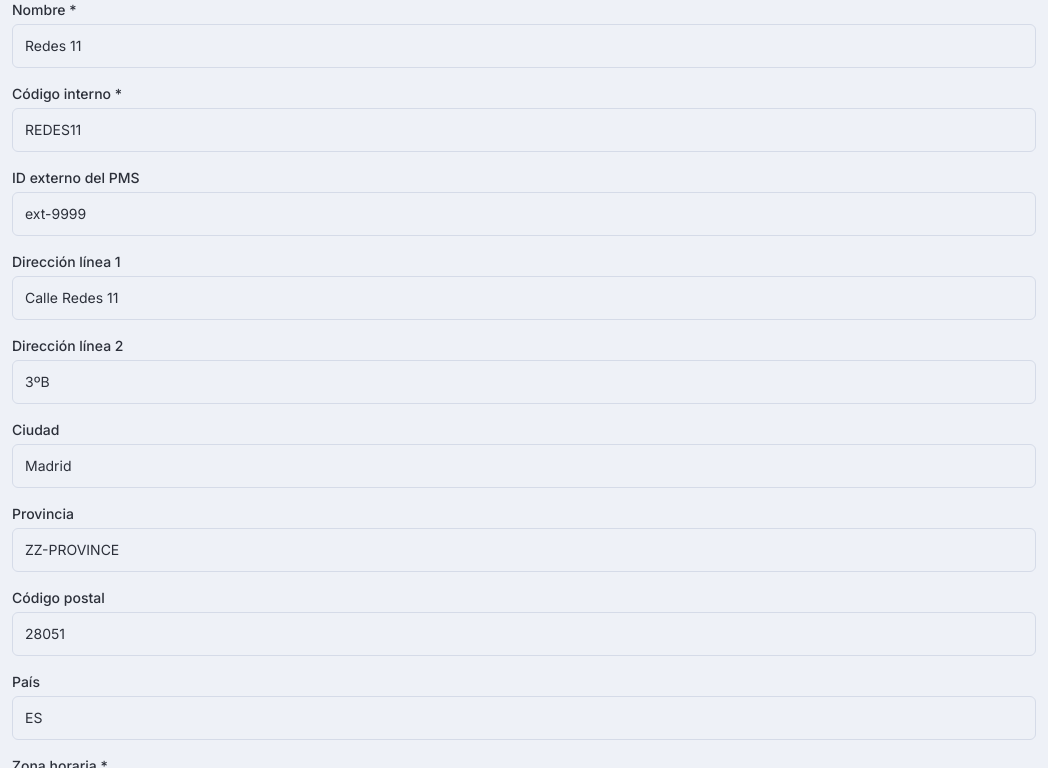
Scenario: EditPropertyForm — explicit clear vs. left alone (R2.4) › blocks the submit instead of clearing a required field (design D8)
Clear the field labelled "Nombre *" at [524, 46], box [12,24,1036,68]
(page scrolled)
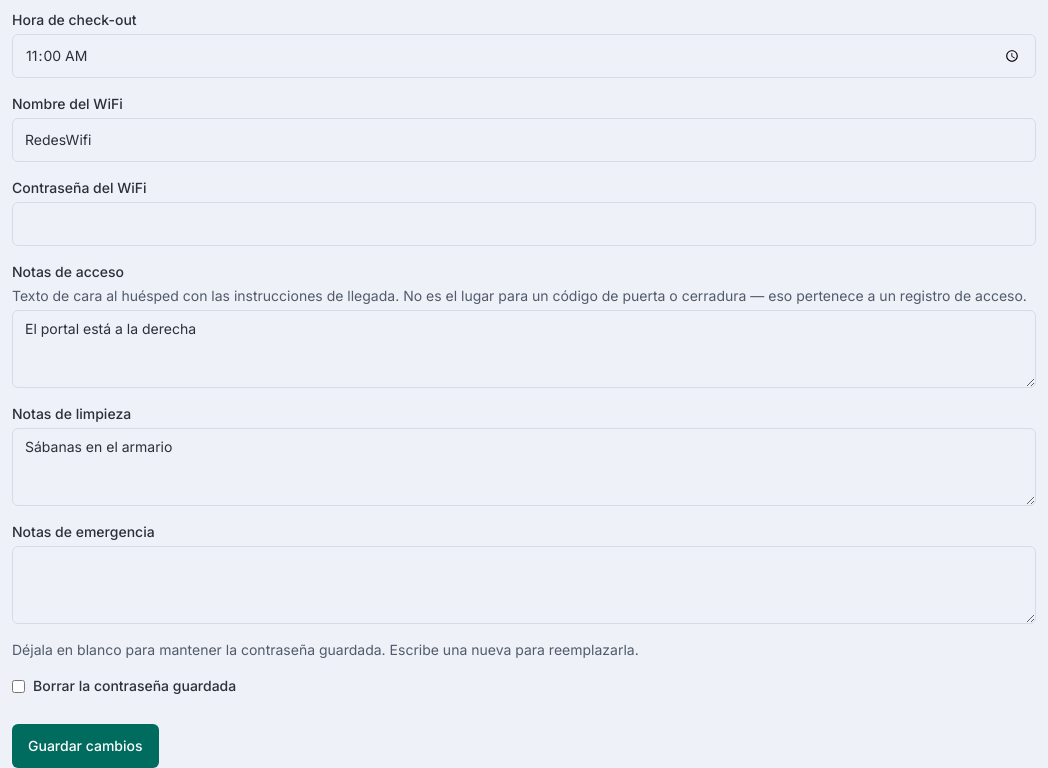
Click the button "Guardar cambios" at [85, 746], box [12,724,158,767]
(page scrolled)
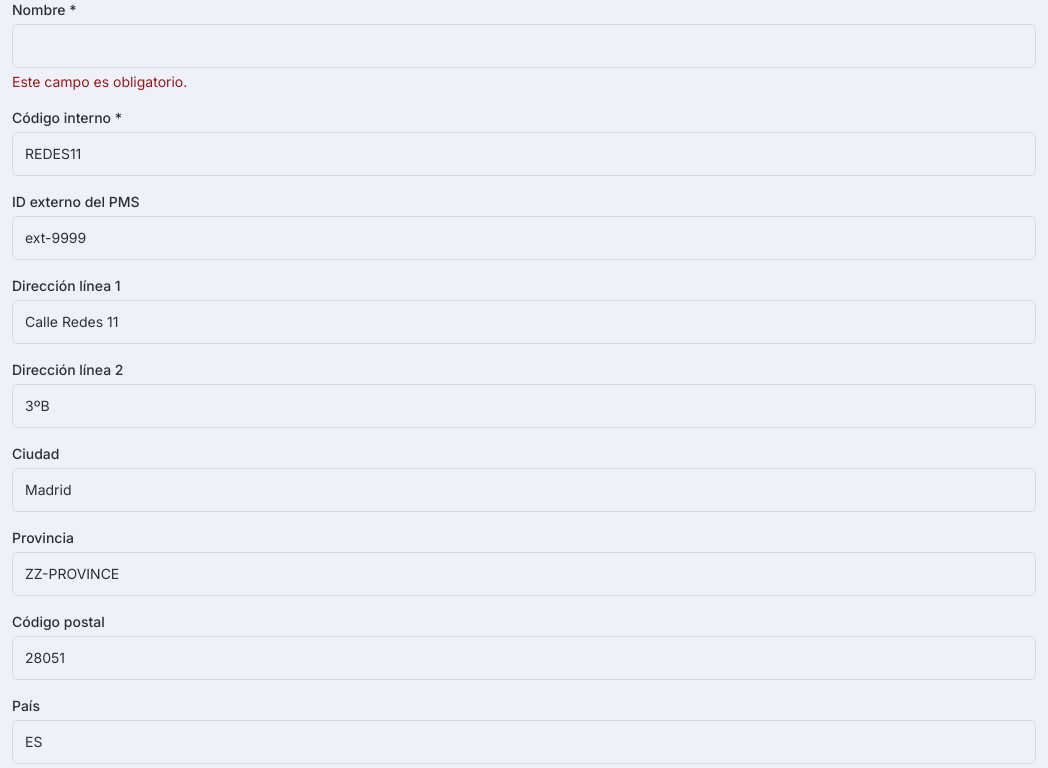
Expected: the text "Este campo es obligatorio." is shown, [12,73,187,90]
